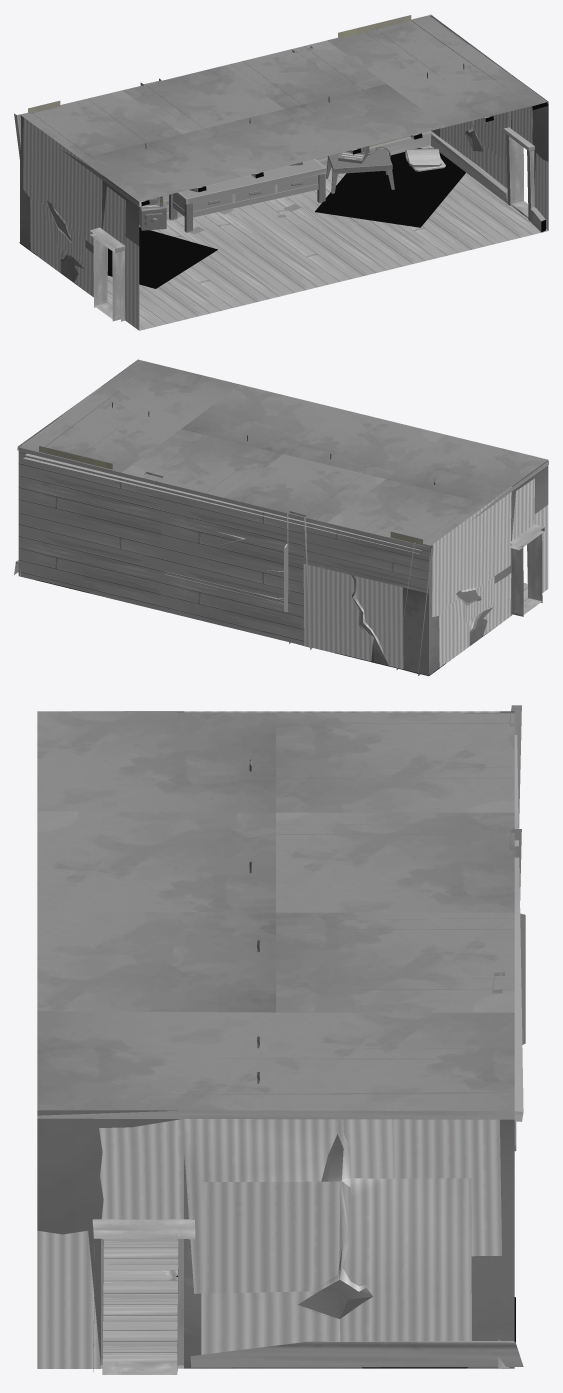
The model's file is MSH_QuestFilly_L2_R2_optimized.fbx.
The picture shows the model from 3 angles, top to bottom: view 1: azimuth 30°, elevation 25°; view 2: azimuth 150°, elevation 25°; view 3: azimuth 270°, elevation 25°; orthographic projection. The views are drawn at different scales.
Parts seen in each view (by area): view 1: lightmap7, lightmap2, lightmap1, lightmap5, lightmap8, lightmap3, lightmap0; view 2: lightmap5, lightmap7, lightmap8, lightmap1; view 3: lightmap7, lightmap5, lightmap8, lightmap2, lightmap1.
Boxes of the visible parts, x1=… form: lightmap7: x1=22, y1=15, x2=547, y2=201; lightmap2: x1=107, y1=145, x2=547, y2=330; lightmap1: x1=19, y1=15, x2=534, y2=321; lightmap5: x1=20, y1=15, x2=548, y2=330; lightmap8: x1=14, y1=14, x2=548, y2=234; lightmap3: x1=142, y1=63, x2=464, y2=207; lightmap0: x1=139, y1=102, x2=547, y2=232; lightmap5: x1=18, y1=360, x2=548, y2=676; lightmap7: x1=19, y1=359, x2=547, y2=546; lightmap8: x1=14, y1=360, x2=548, y2=675; lightmap1: x1=36, y1=446, x2=544, y2=675; lightmap7: x1=37, y1=711, x2=514, y2=1110; lightmap5: x1=37, y1=711, x2=514, y2=1368; lightmap8: x1=37, y1=705, x2=525, y2=1368; lightmap2: x1=101, y1=1238, x2=183, y2=1368; lightmap1: x1=92, y1=1219, x2=515, y2=1374.
Size of the model in its own units: 20.6 by 6.27 by 10.13.
